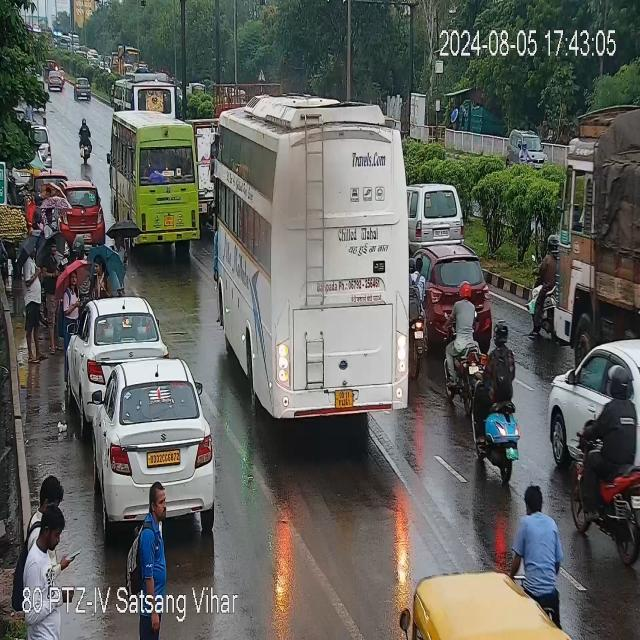2-wheelers: (572, 364, 639, 555), (513, 483, 563, 606), (479, 323, 518, 479), (442, 282, 480, 408), (531, 228, 559, 333), (80, 116, 92, 164), (517, 144, 531, 167)
auto: (404, 558, 563, 640), (506, 128, 546, 172)
bus: (215, 95, 415, 419), (558, 102, 639, 344), (105, 102, 205, 248), (112, 70, 178, 116), (39, 125, 54, 169)
car: (81, 360, 218, 528), (548, 342, 636, 464), (69, 296, 164, 396), (421, 240, 453, 340), (407, 254, 430, 380), (72, 76, 95, 101), (47, 70, 62, 91)
pedestrian: (137, 482, 170, 580), (35, 468, 67, 568), (24, 248, 43, 358), (32, 184, 68, 241), (46, 239, 59, 346), (88, 252, 111, 294), (64, 266, 78, 322), (111, 232, 127, 274)
truck: (409, 182, 462, 240)
